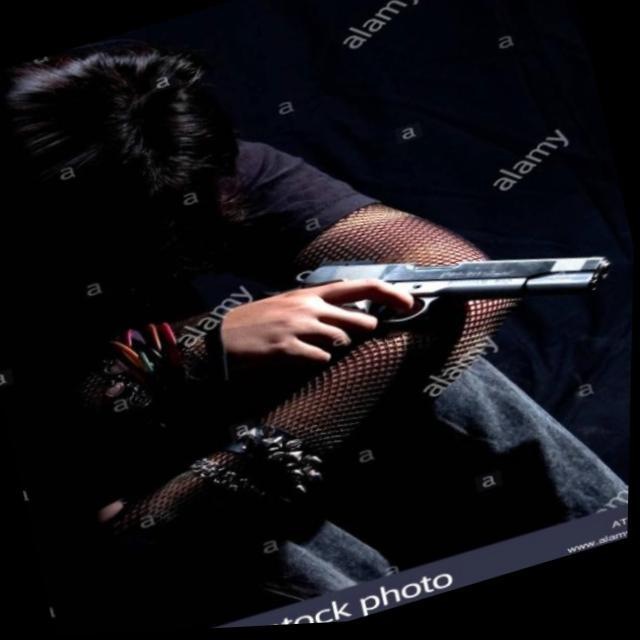weapon: (284, 183, 622, 384)
